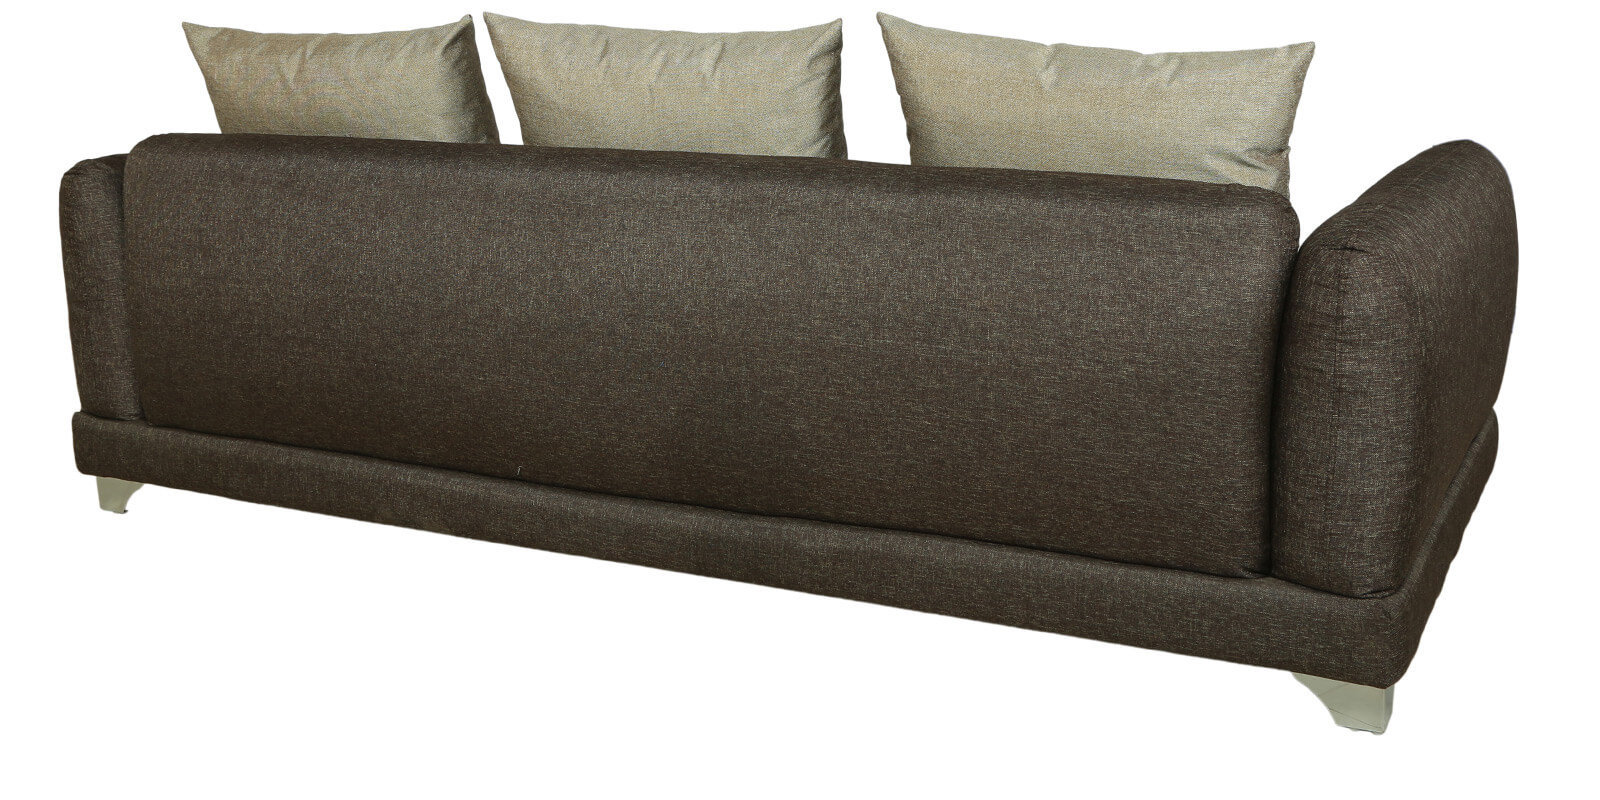Exclusive Three Seater Sofa in Dark Grey Colour by Parin: (49, 11, 1526, 766)
